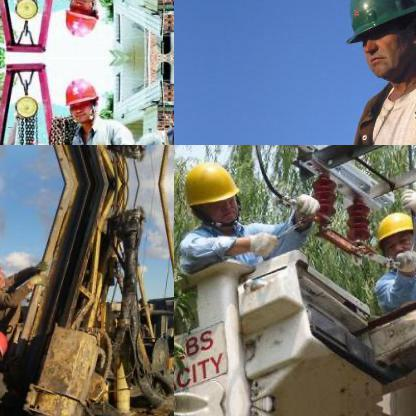Helmet: (326, 0, 415, 88), (176, 156, 244, 228), (371, 207, 415, 266), (64, 73, 98, 127), (63, 0, 100, 41), (0, 327, 11, 365)
